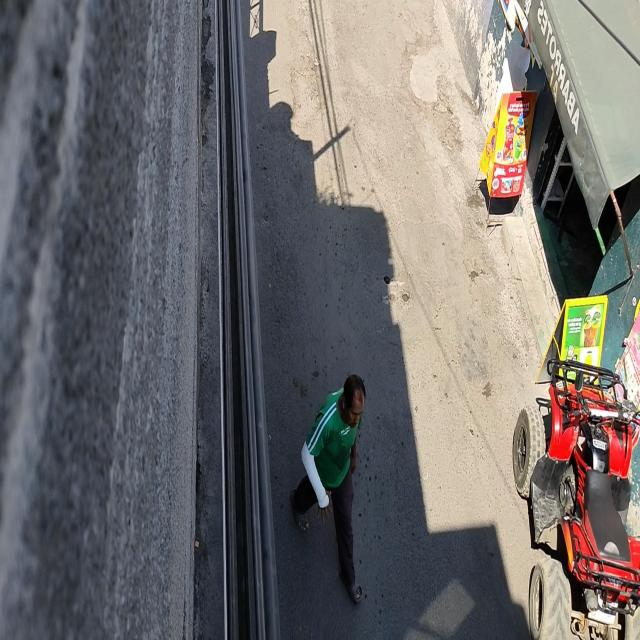adult: (289, 374, 366, 612)
